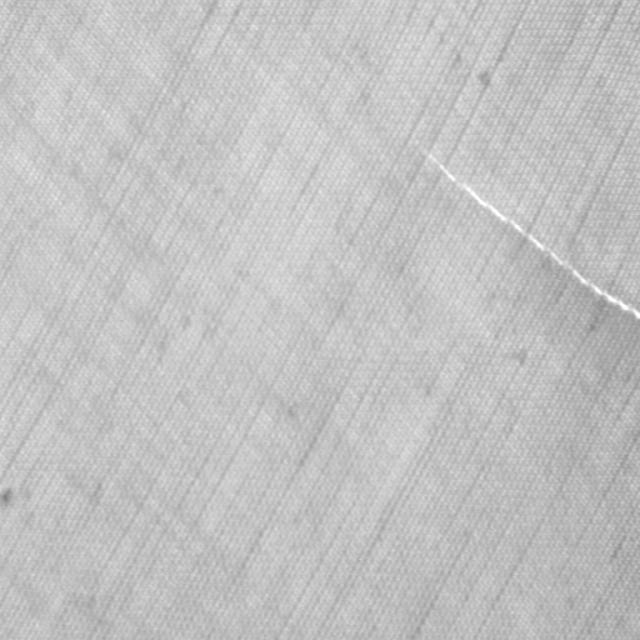hole: (402, 135, 638, 323)
